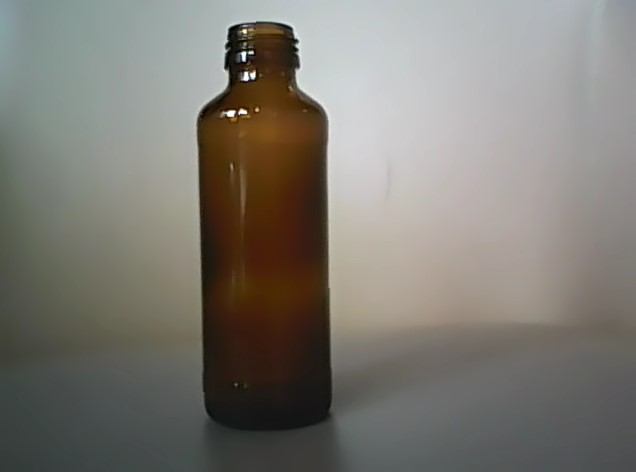Glass: (190, 18, 338, 431)
